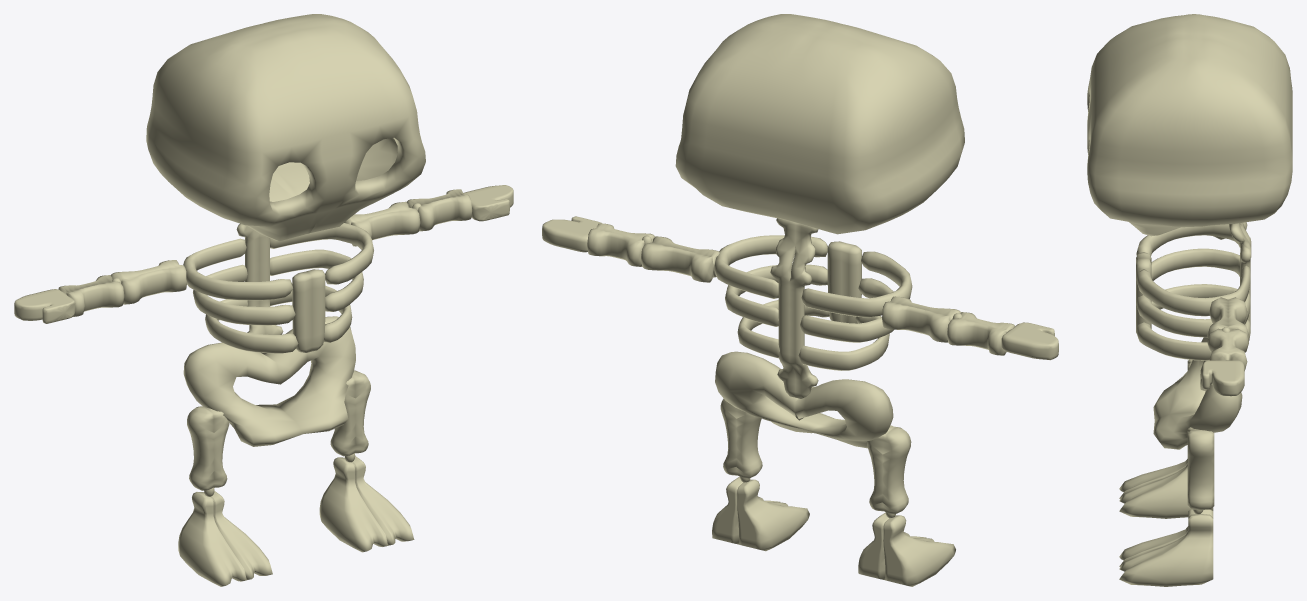
Rendered from calavera6.fbx.
3 views of the same model, side by side, from view 1: azimuth 30°, elevation 25°; view 2: azimuth 150°, elevation 25°; view 3: azimuth 270°, elevation 25° (orthographic). The views are drawn at different scales.
Parts seen in each view (by area): view 1: Skeleton, Skeleton.001; view 2: Skeleton, Skeleton.001; view 3: Skeleton.001, Skeleton.
Part boxes in pixels (<box>): Skeleton: <box>14,185,513,586</box>; Skeleton.001: <box>146,14,425,241</box>; Skeleton: <box>542,216,1058,586</box>; Skeleton.001: <box>675,14,964,234</box>; Skeleton.001: <box>1087,14,1292,236</box>; Skeleton: <box>1119,222,1251,586</box>.
Bounding box in the file's own units: 489 × 484 × 178.
